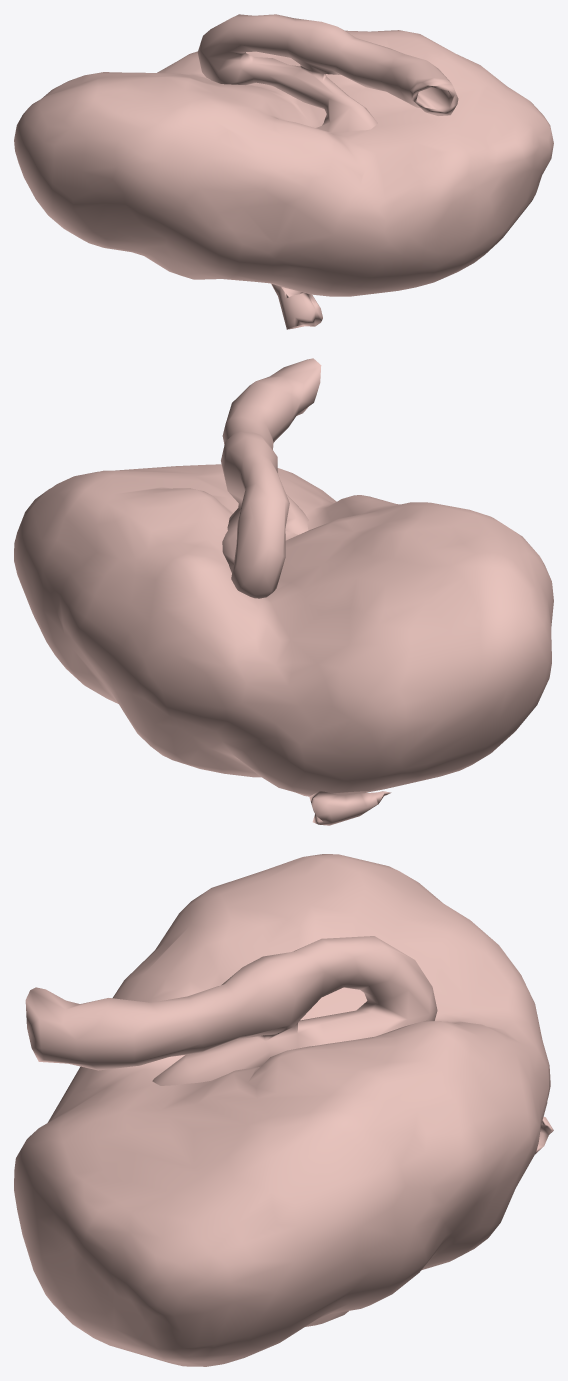
File: 3d-nih-m-lymph-node_lod_20.glb
The picture shows the model from 3 angles, top to bottom: view 1: azimuth 30°, elevation 25°; view 2: azimuth 150°, elevation 25°; view 3: azimuth 270°, elevation 25°; orthographic projection. The views are drawn at different scales.
Visible parts, largest first — view 1: Yao_capsule_of_lymph_node, Yao_efferent_lymph_node, Yao_afferent_lymphatic_vessel; view 2: Yao_capsule_of_lymph_node, Yao_efferent_lymph_node, Yao_afferent_lymphatic_vessel; view 3: Yao_capsule_of_lymph_node, Yao_efferent_lymph_node.
Part boxes in pixels (left/top/right/bottom): Yao_capsule_of_lymph_node: left=14, top=30, right=553, bottom=296; Yao_efferent_lymph_node: left=197, top=14, right=458, bottom=132; Yao_afferent_lymphatic_vessel: left=271, top=283, right=322, bottom=329; Yao_capsule_of_lymph_node: left=14, top=464, right=553, bottom=796; Yao_efferent_lymph_node: left=221, top=358, right=321, bottom=598; Yao_afferent_lymphatic_vessel: left=309, top=791, right=391, bottom=825; Yao_capsule_of_lymph_node: left=14, top=854, right=550, bottom=1366; Yao_efferent_lymph_node: left=25, top=936, right=437, bottom=1085.
Size of the model in its own units: 0.0183 by 0.0106 by 0.013.
